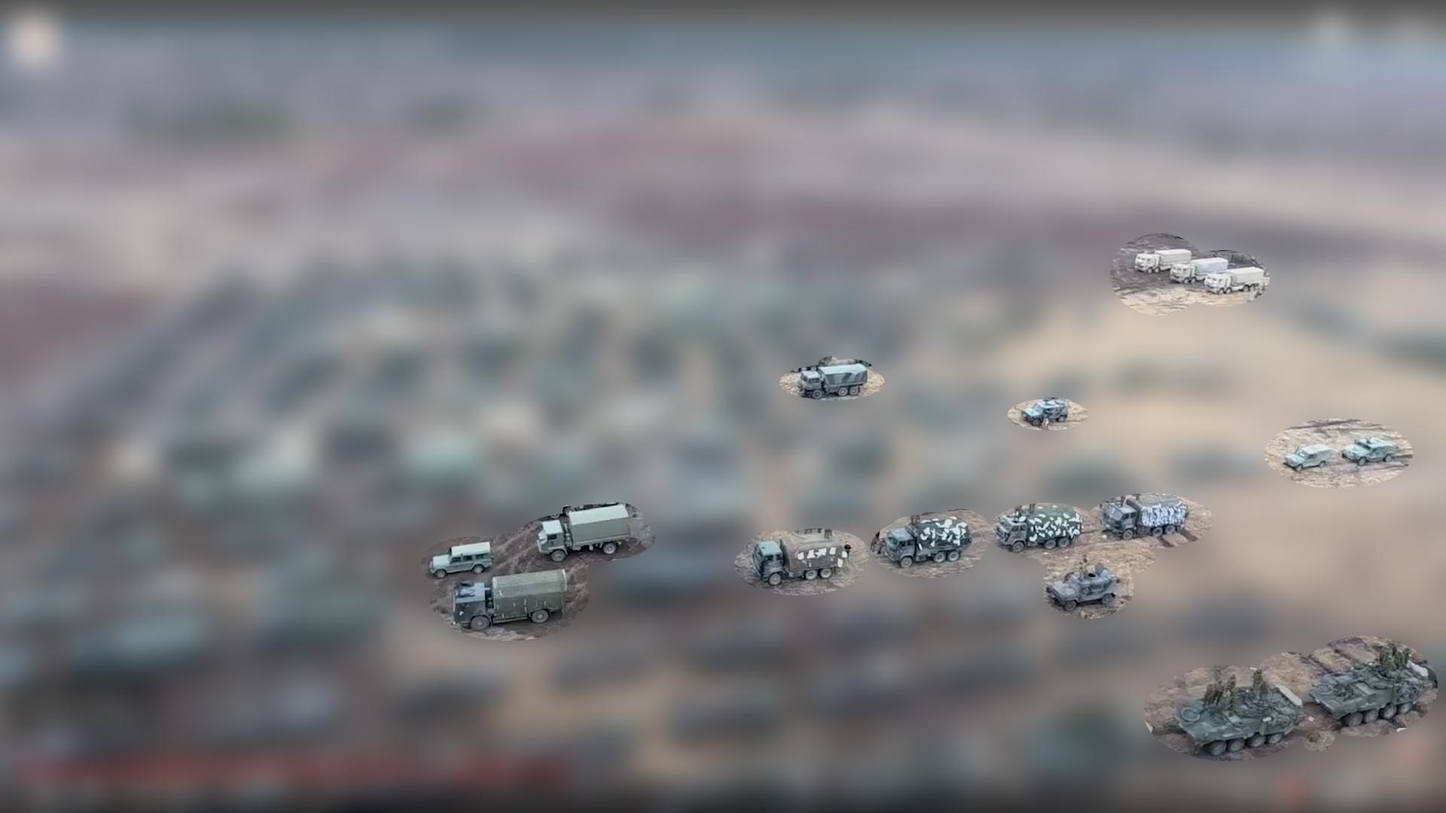armored_car: (1170, 669, 1305, 758), (1309, 649, 1434, 725), (1044, 564, 1121, 613), (415, 534, 494, 578), (1338, 436, 1400, 466), (1018, 397, 1073, 427), (1281, 441, 1333, 471)
truck: (450, 570, 572, 635), (535, 502, 633, 563), (987, 498, 1086, 556), (750, 534, 852, 588), (869, 515, 974, 567), (1096, 495, 1183, 542), (792, 360, 870, 400), (1201, 265, 1272, 297)
